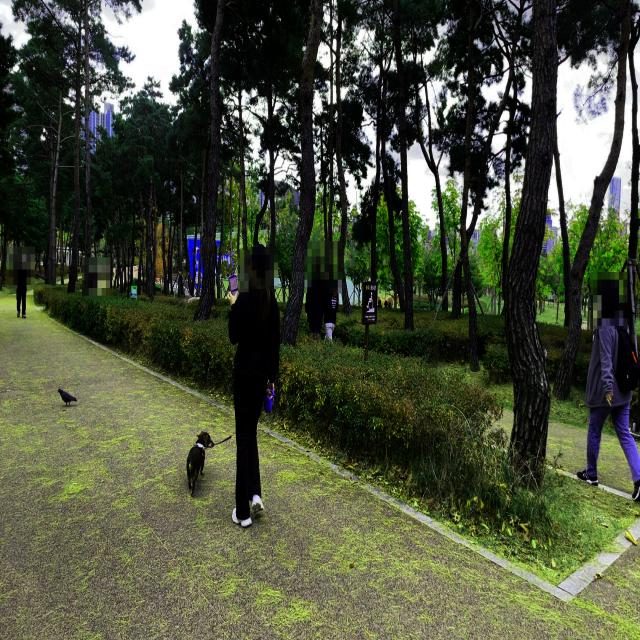Leashed_Dog: (187, 380, 254, 498)
